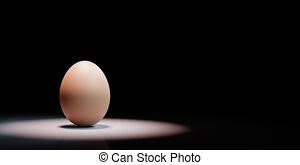egg: (58, 61, 110, 127)
